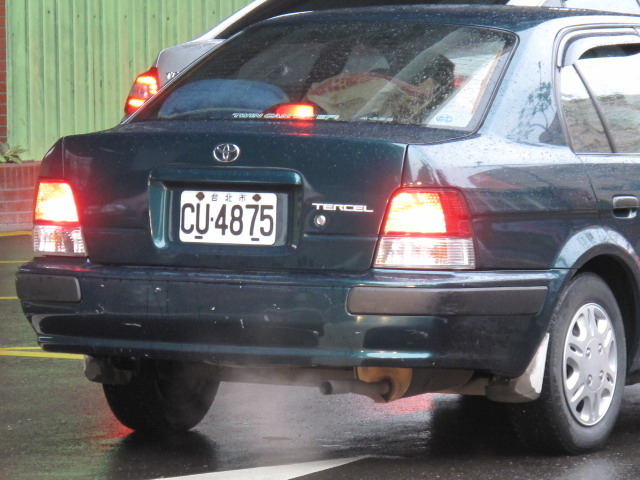plate: (178, 187, 281, 248)
